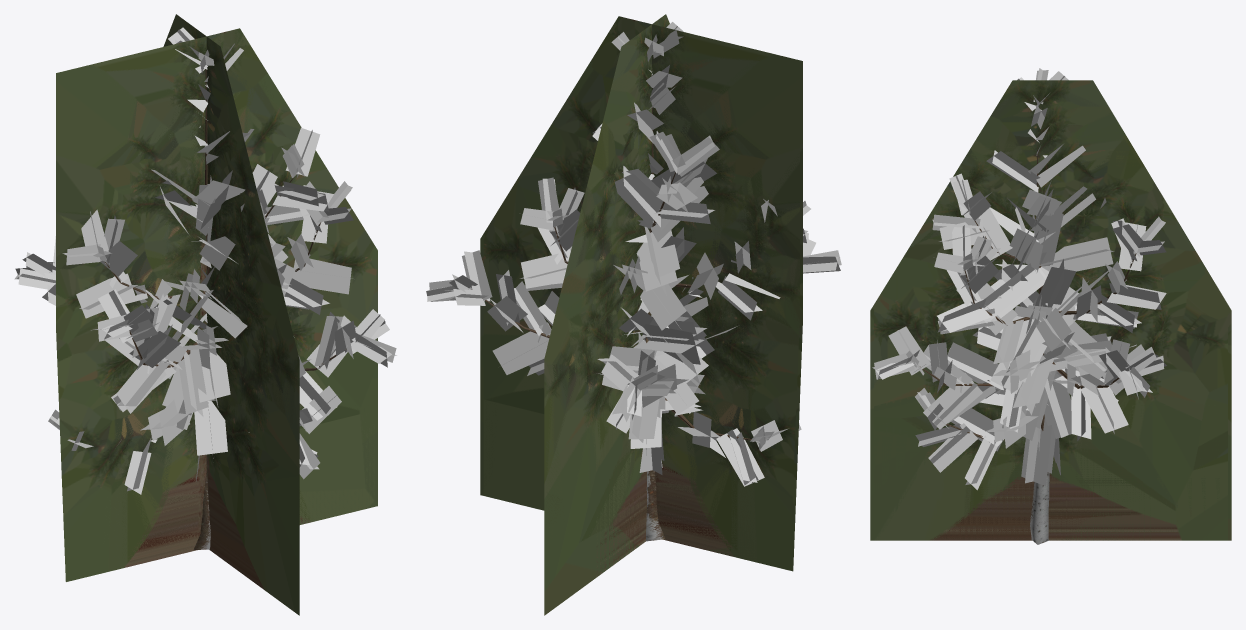
File: Spruce_bush3.fbx
3 renders of one model, left to right at view 1: azimuth 30°, elevation 25°; view 2: azimuth 150°, elevation 25°; view 3: azimuth 270°, elevation 25°, orthographic. The views are drawn at different scales.
Parts seen in each view (by area): view 1: Billboard, LOD0; view 2: Billboard, LOD0; view 3: Billboard, LOD0.
Boxes of the visible parts, x1=… form: Billboard: x1=56, y1=14, x2=377, y2=615; LOD0: x1=14, y1=27, x2=396, y2=549; Billboard: x1=480, y1=14, x2=802, y2=615; LOD0: x1=426, y1=22, x2=841, y2=541; Billboard: x1=870, y1=80, x2=1231, y2=540; LOD0: x1=872, y1=68, x2=1166, y2=544.
Size of what is drawn, in the model's own units: 154 by 235 by 166.
